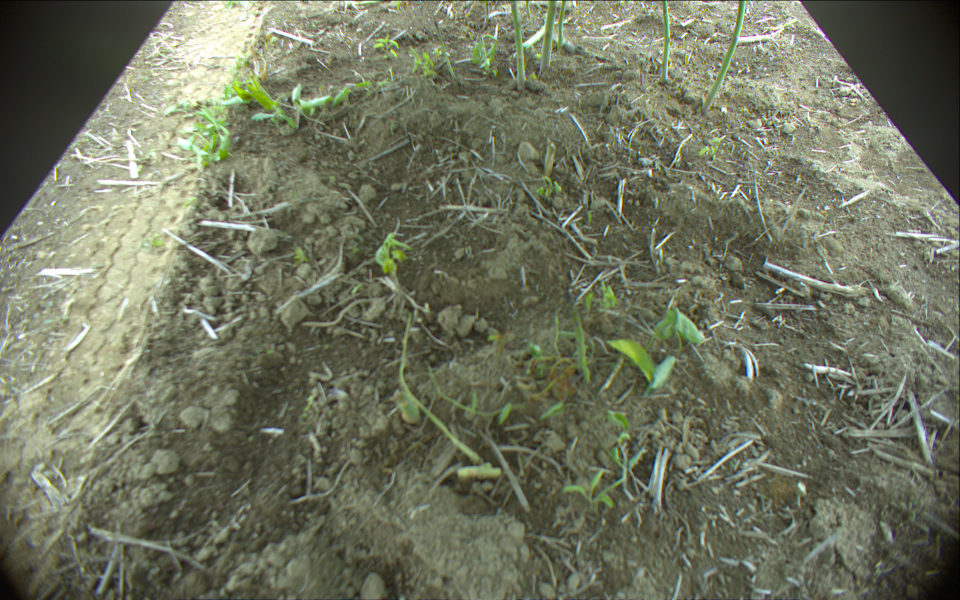aspa: (394, 311, 486, 464), (705, 1, 745, 113), (565, 288, 591, 379), (431, 11, 461, 83), (513, 13, 549, 62), (539, 1, 558, 72), (511, 1, 527, 85), (661, 1, 672, 80), (557, 1, 566, 48), (483, 1, 489, 26)
